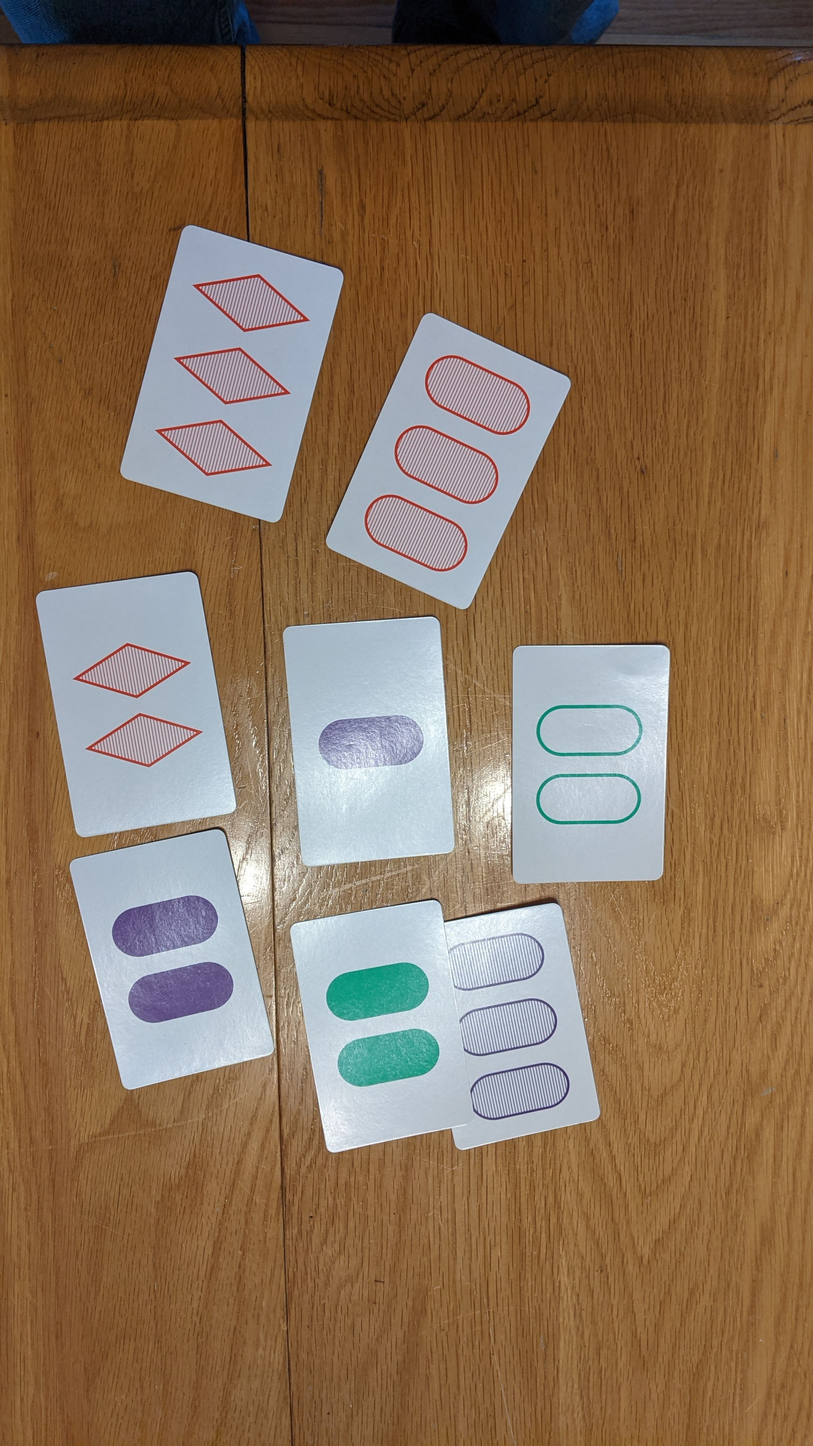card: (326, 313, 572, 610), (120, 223, 342, 523), (34, 571, 236, 839), (68, 829, 273, 1090), (289, 899, 475, 1152), (280, 616, 455, 867), (423, 902, 599, 1149), (511, 641, 664, 884)
